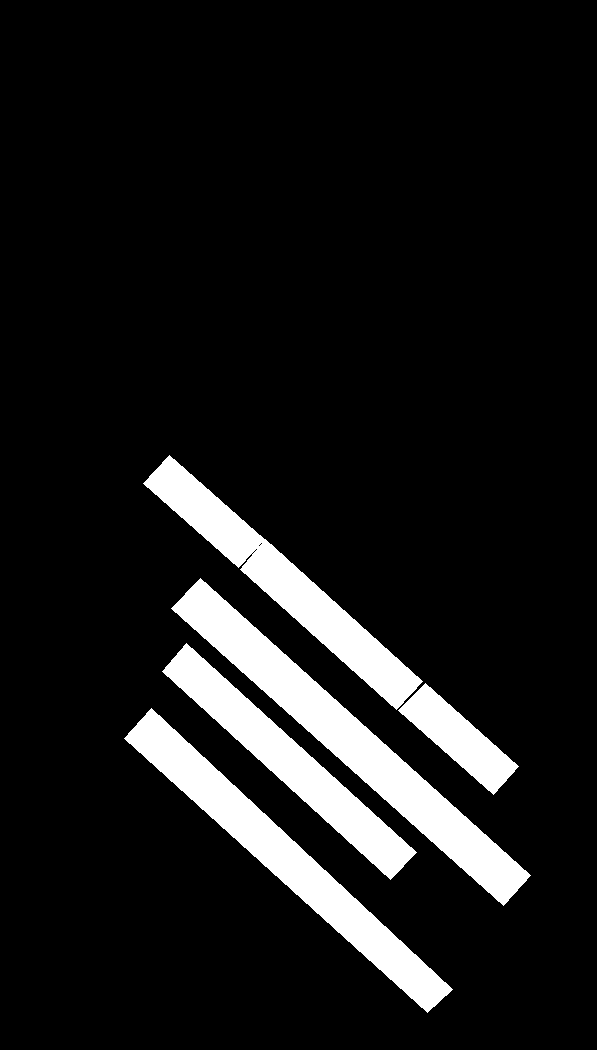parkingspot: (171, 577, 531, 905), (124, 707, 453, 1012), (162, 642, 417, 879), (240, 538, 423, 709), (143, 454, 265, 567), (398, 682, 519, 794)
